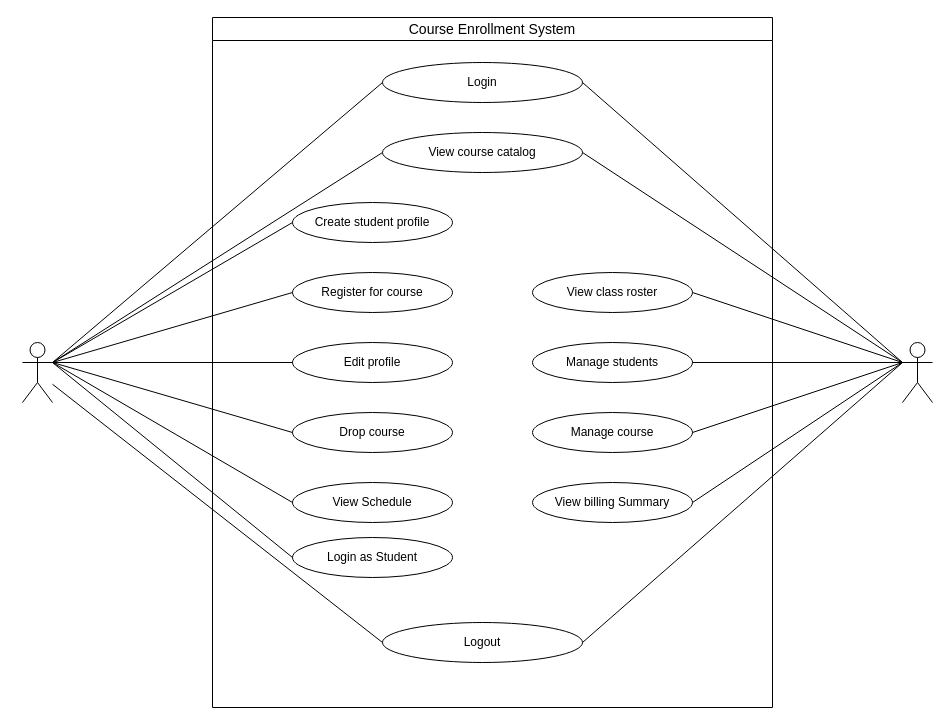
Some shapes in this 952 by 725 pixel diagram are drawn without their labels. Here are the shapes that lost their labels. From the top down, the centre of each, then its label:
At pixel 37 372: "Student".
At pixel 917 372: "Admin".
